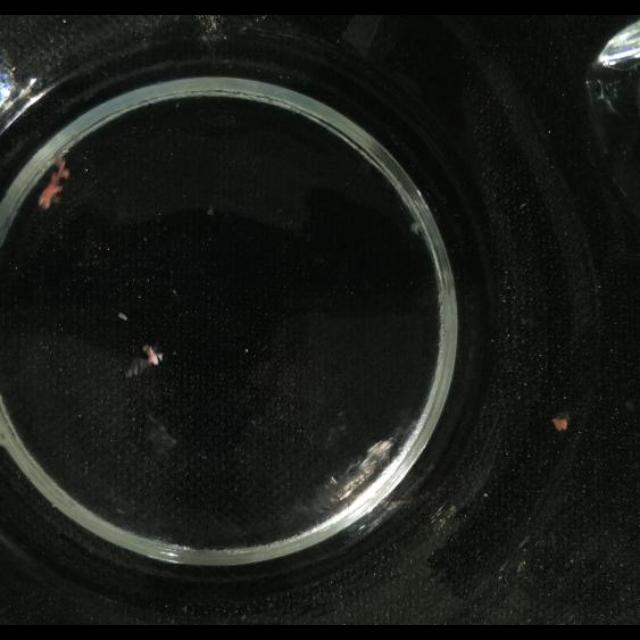Fragment: (40, 158, 72, 208), (124, 343, 164, 379)
microbeads: (553, 417, 569, 431), (119, 313, 128, 321), (206, 208, 214, 216)
